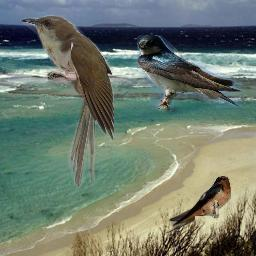Cuckoo: (20, 14, 114, 186)
Swallow: (137, 35, 242, 111), (161, 176, 231, 233)
